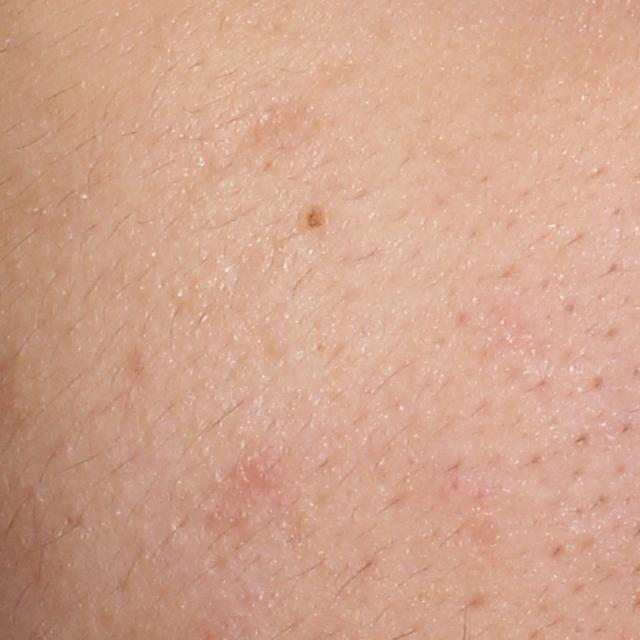nevus: (302, 203, 327, 230)
